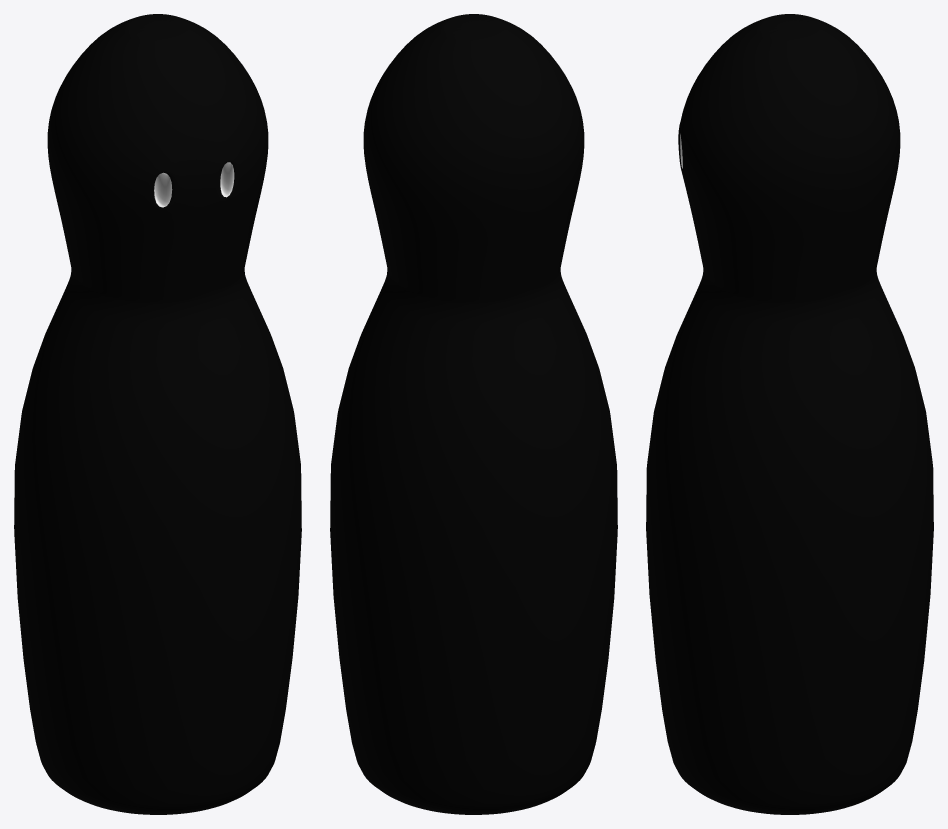
Rendered from ghost1.fbx.
3 renders of one model, left to right at view 1: azimuth 30°, elevation 25°; view 2: azimuth 150°, elevation 25°; view 3: azimuth 270°, elevation 25°, orthographic.
Visible parts, largest first — view 1: polySurface2; view 2: polySurface2; view 3: polySurface2.
Part boxes in pixels (bbox=[...]): polySurface2: bbox=[14, 14, 301, 814]; polySurface2: bbox=[330, 14, 617, 814]; polySurface2: bbox=[646, 14, 933, 814].
Size of the model in its own units: 1.26 by 3.63 by 1.26.
